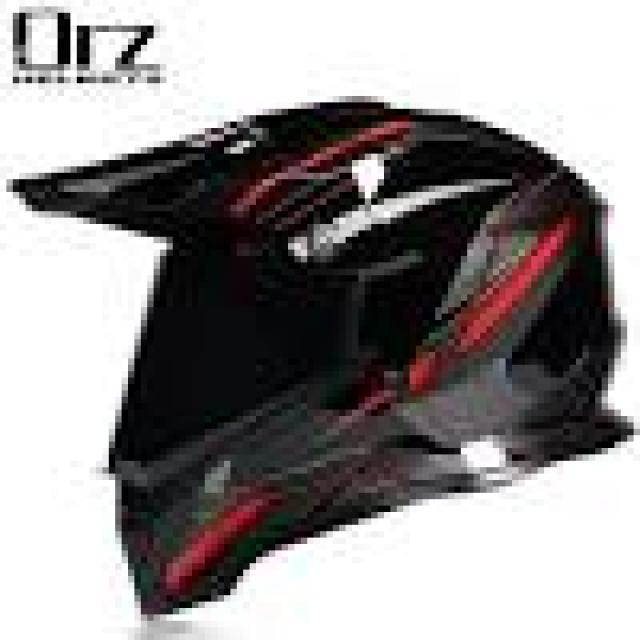Helmet: (16, 101, 631, 613)
